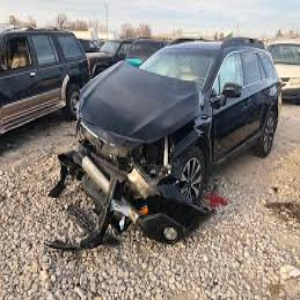bumper: (64, 147, 172, 227)
